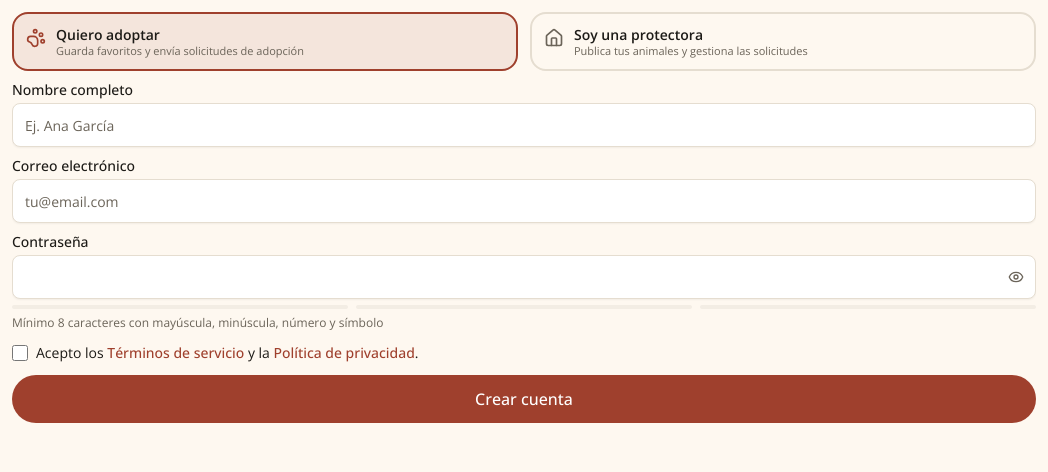
it: RegisterForm › con un email ya registrado muestra un mensaje neutro con enlaces a login y recuperar
Type "Ana García" into the field labelled "Nombre completo" at (524, 125), box [12,103,1036,147]
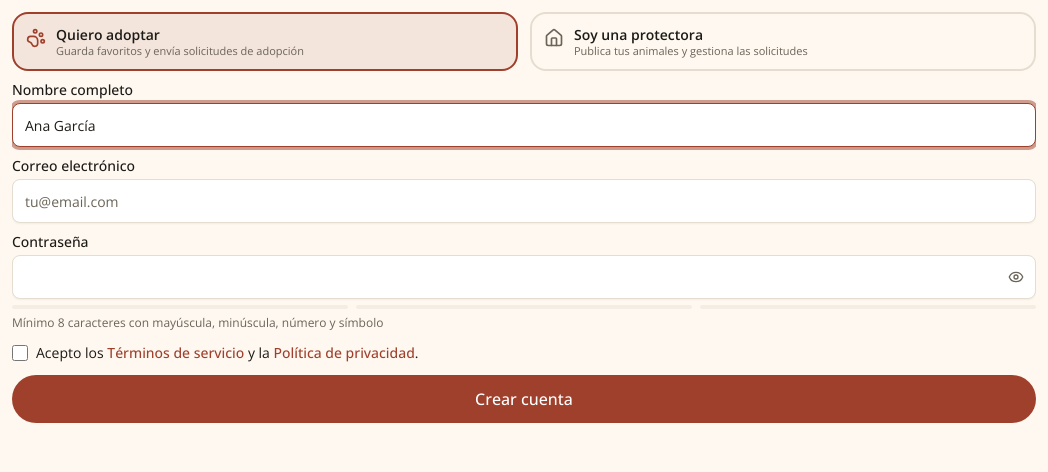
Type "ana@example.com" into the field labelled "Correo electrónico" at (524, 201), box [12,179,1036,223]
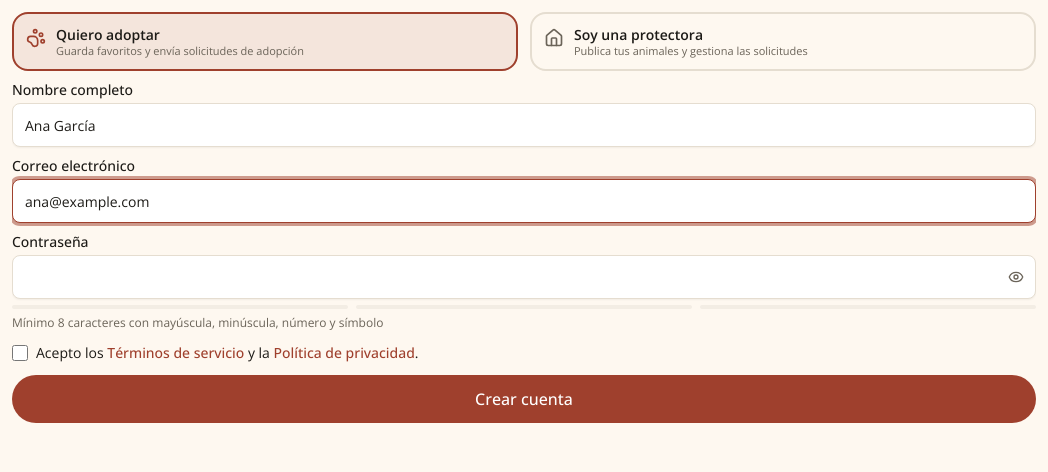
Type "Secreta-123!" into the password field labelled "Contraseña" at (524, 277), box [12,255,1036,299]
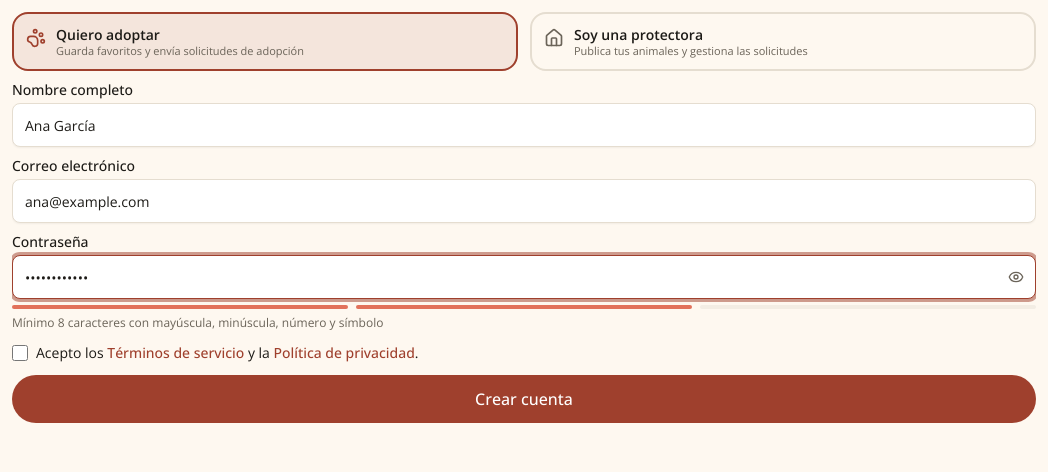
Click the checkbox at (20, 353), box [12,345,28,361]
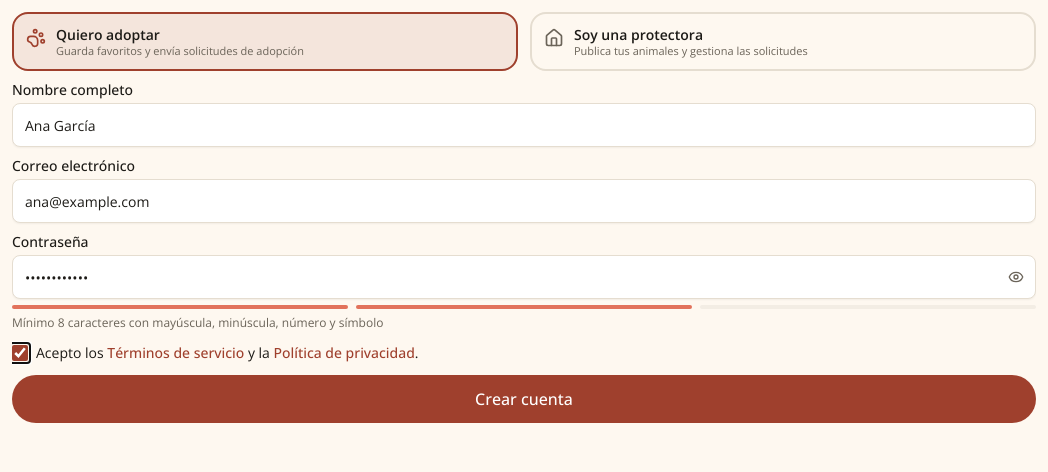
Click the button "Crear cuenta" at (524, 399), box [12,375,1036,423]
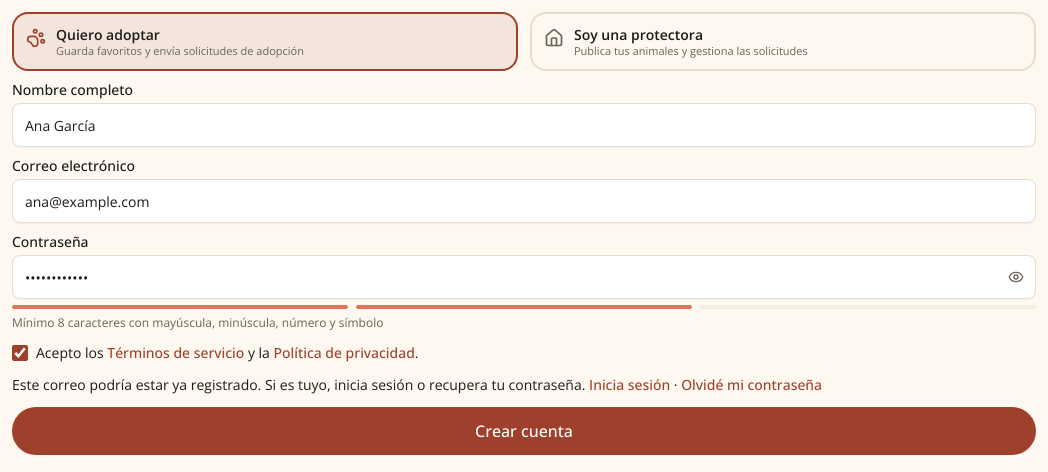
Check: the message shows "Este correo podría estar ya registrado. Si es tuyo, inicia sesión o recupera tu contraseña.", box [12,375,585,394]
